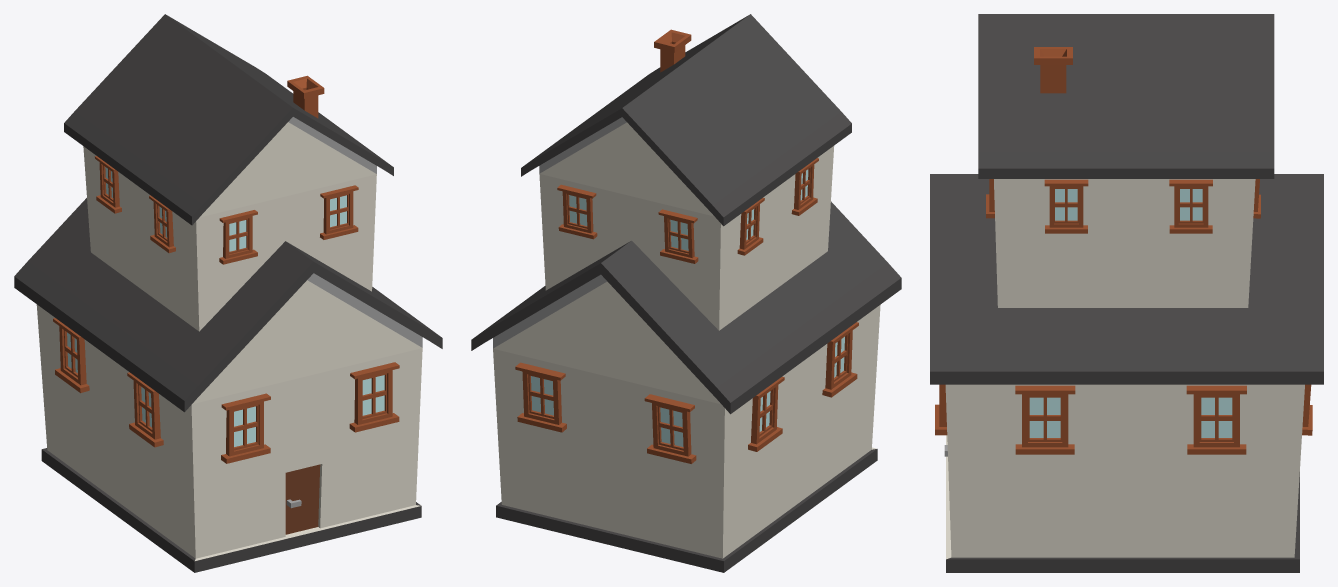
Rendered from House3.glb.
3 views of the same model, side by side, from view 1: azimuth 30°, elevation 25°; view 2: azimuth 150°, elevation 25°; view 3: azimuth 270°, elevation 25° (orthographic). The views are drawn at different scales.
Parts seen in each view (by area): view 1: House3; view 2: House3; view 3: House3.
Boxes of the visible parts, x1,y1,x2,y2 form: House3: (14, 14, 442, 572); House3: (471, 14, 901, 572); House3: (930, 14, 1323, 572).
Size of the model in its own units: 1.25 by 1.99 by 1.43.
Materials: 1 (1 with a texture image).
